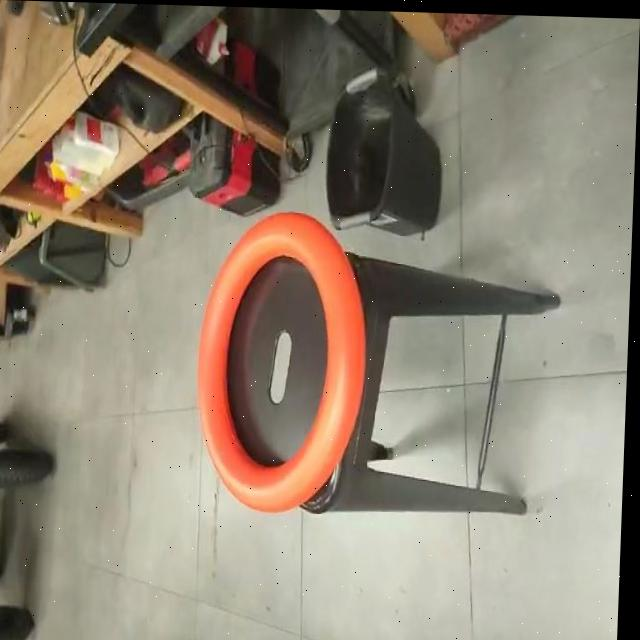note: (193, 202, 378, 518)
